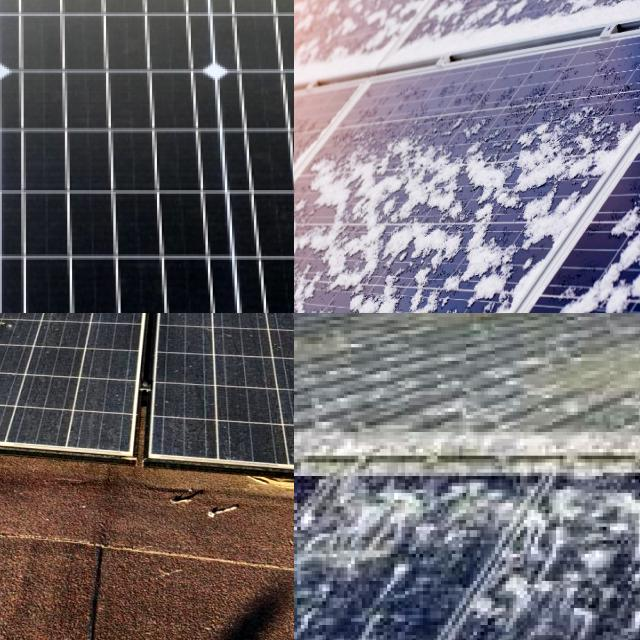bird: (294, 472, 506, 607), (508, 575, 618, 640), (545, 471, 620, 539)
crack: (0, 0, 294, 313)
dust: (0, 313, 80, 386), (30, 313, 146, 360), (0, 351, 48, 419)
panel: (514, 100, 612, 244), (407, 140, 513, 254), (312, 148, 414, 222), (294, 220, 387, 298), (369, 0, 458, 57), (405, 268, 510, 313), (294, 236, 349, 313), (294, 0, 356, 57), (294, 240, 336, 313), (294, 0, 336, 72), (613, 195, 640, 301), (294, 177, 347, 231), (572, 0, 640, 38), (565, 279, 640, 313), (471, 0, 571, 25), (375, 0, 467, 26), (485, 0, 555, 26)
